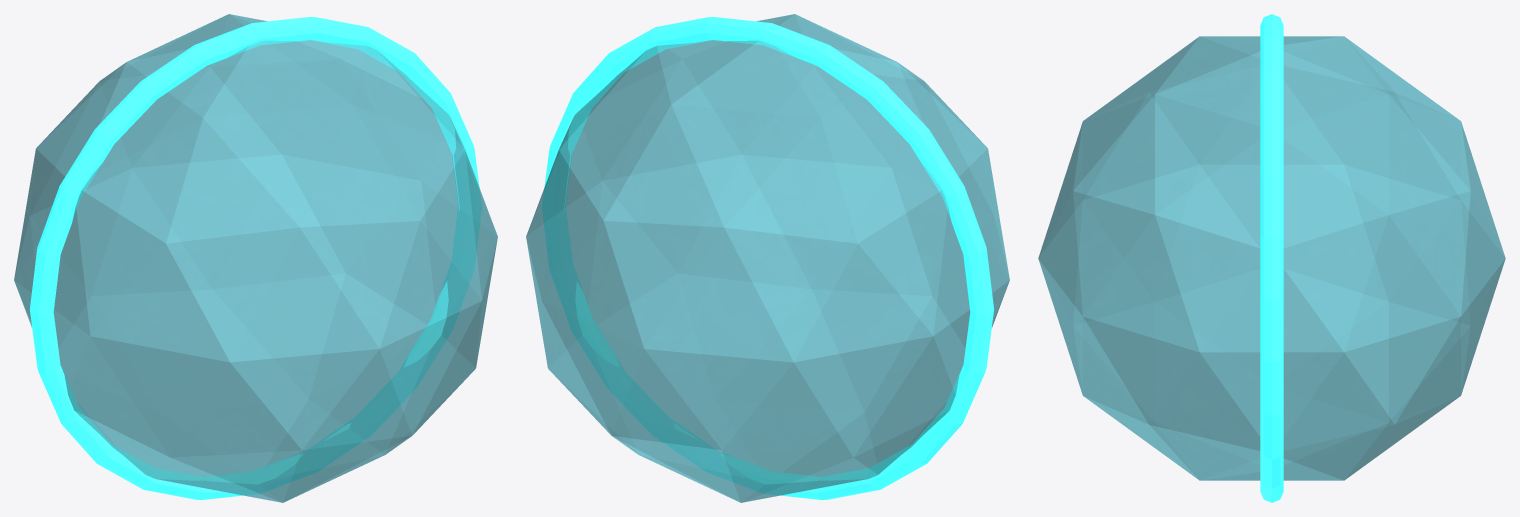
File: wardens-ward-shield.glb
3 views of the same model, side by side, from view 1: azimuth 30°, elevation 25°; view 2: azimuth 150°, elevation 25°; view 3: azimuth 270°, elevation 25° (orthographic). The views are drawn at different scales.
Parts seen in each view (by area): view 1: ward-dome, ward-rim-ring; view 2: ward-dome, ward-rim-ring; view 3: ward-dome, ward-rim-ring.
Part boxes in pixels (x1,y1,x2,y2): ward-dome: (14, 14, 497, 502); ward-rim-ring: (29, 17, 481, 499); ward-dome: (526, 14, 1009, 502); ward-rim-ring: (542, 17, 994, 499); ward-dome: (1038, 36, 1505, 480); ward-rim-ring: (1260, 14, 1283, 502).
Size of the model in its own units: 1.05 by 1.05 by 1.
2 materials, 2 textured.
